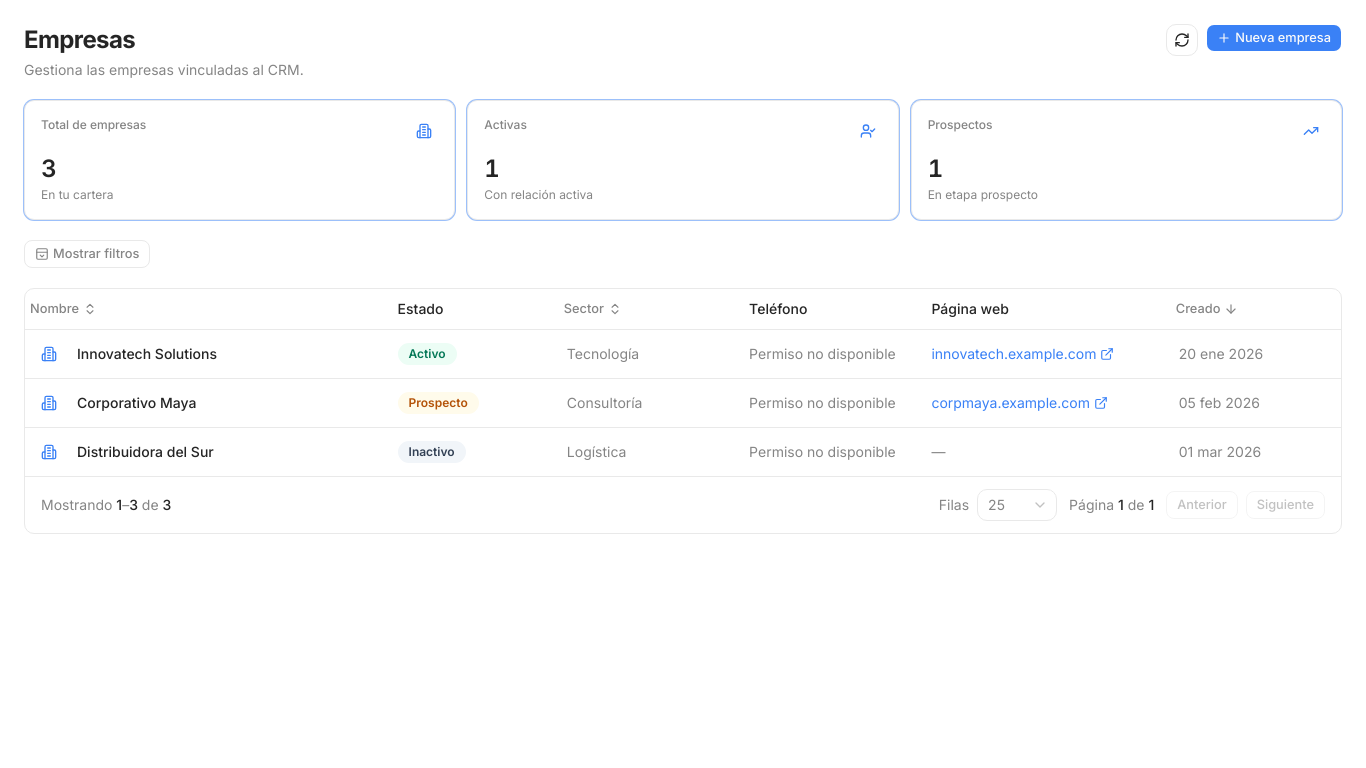
Test case: EmpresasListPage › filtra las empresas con la búsqueda
Expected: the button "Innovatech Solutions" is shown, [77,344,382,364]
Click the button "Mostrar filtros" at (87, 254), box [24,240,150,268]
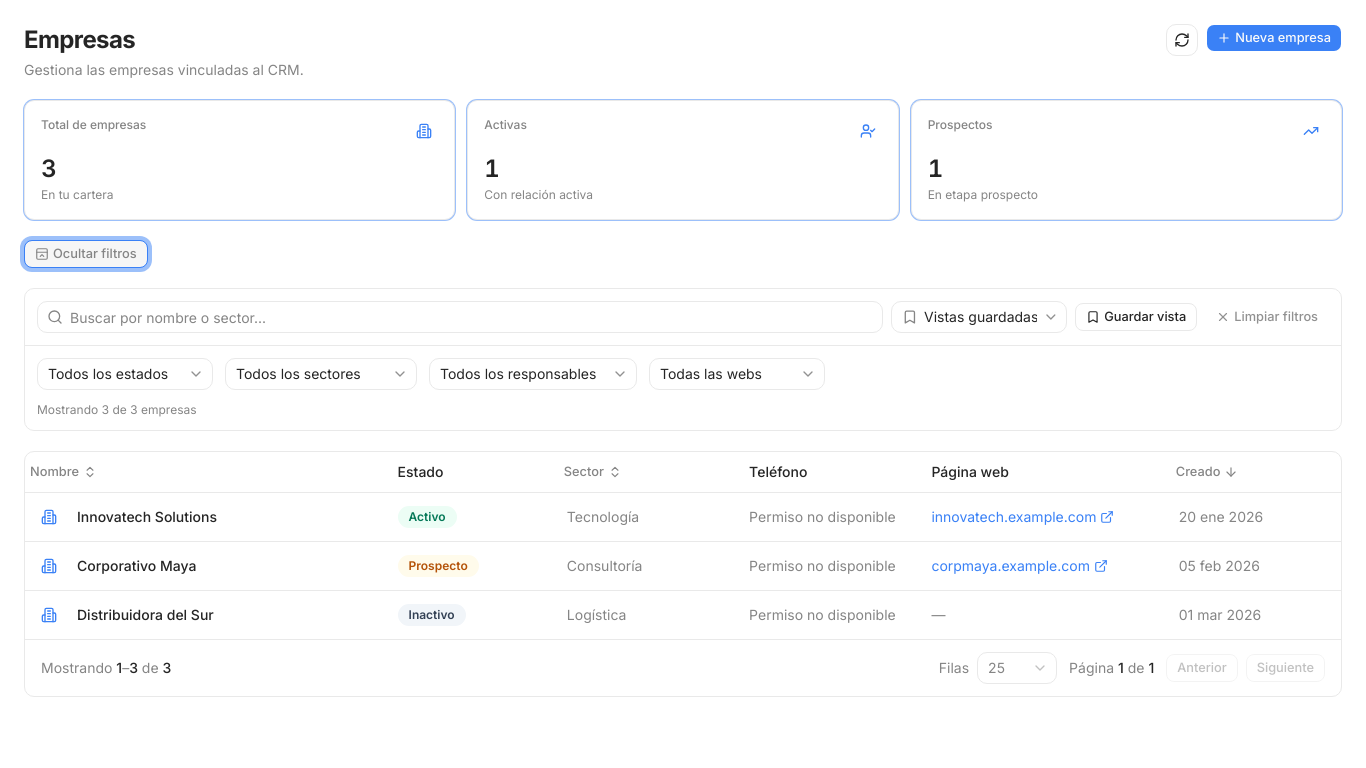
Type "Maya" into the search field with placeholder "Buscar por nombre o sector..." at (460, 317), box [37,301,883,333]
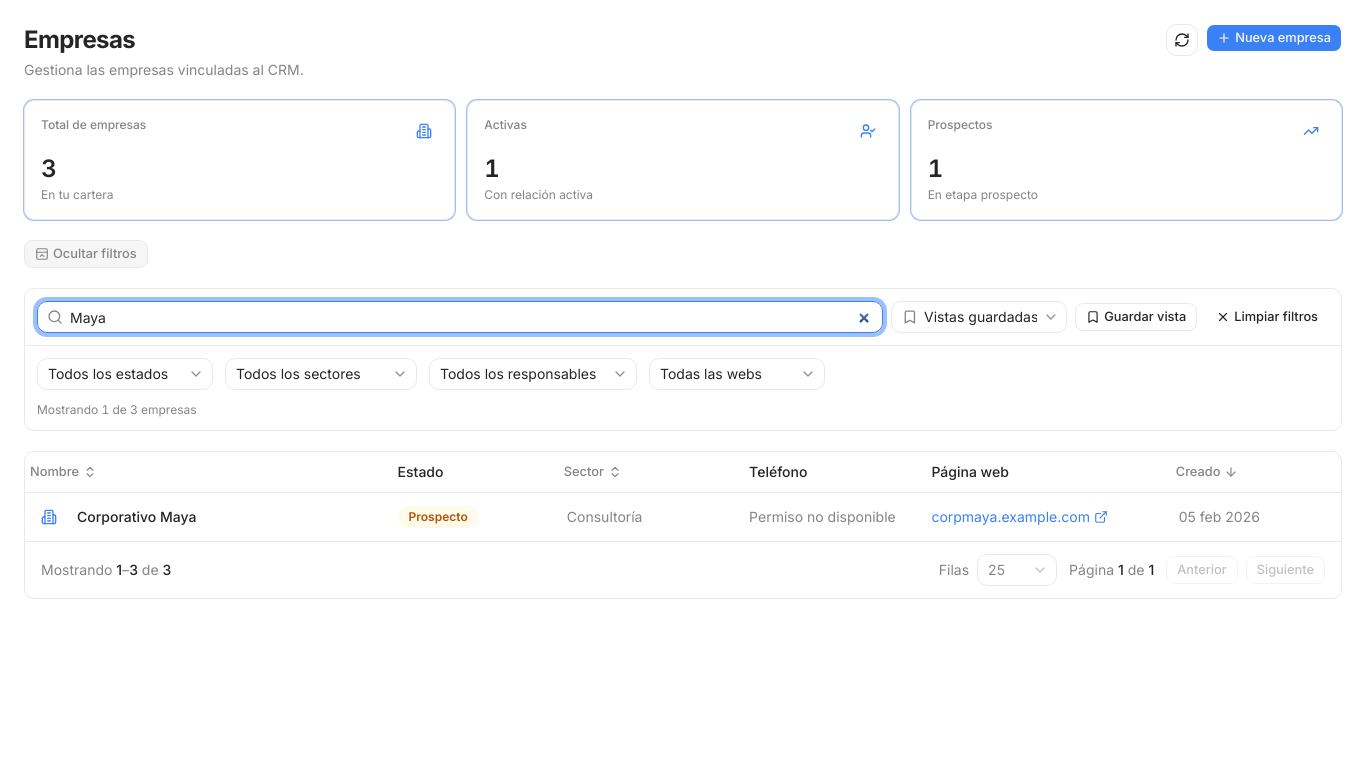
Now the button "Innovatech Solutions" is gone
Now the button "Distribuidora del Sur" is gone
Now the text "Mostrando 1 de 3 empresas" is shown, box [37,402,197,418]
